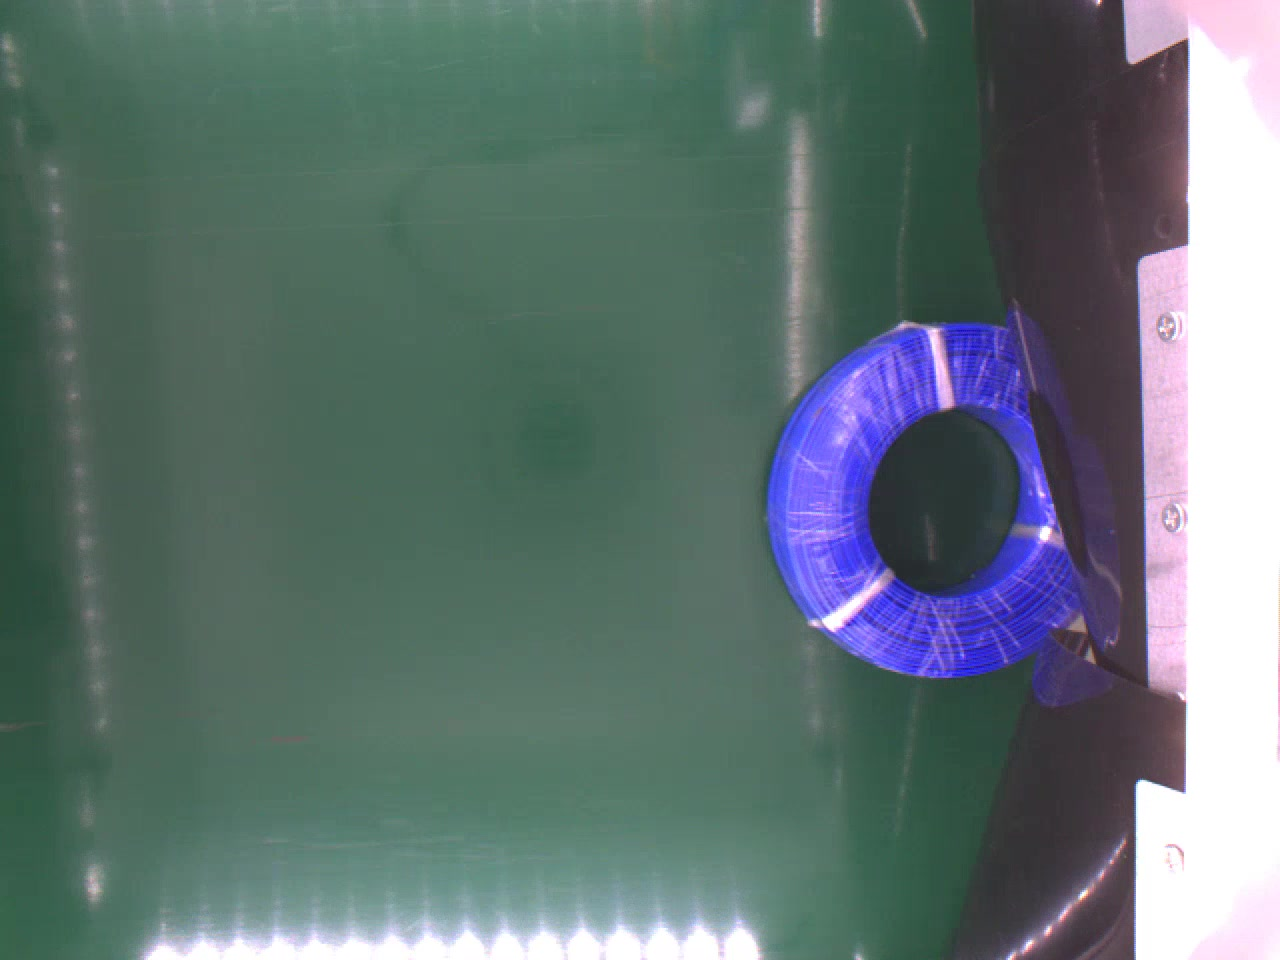blue: (757, 317, 1082, 678)
